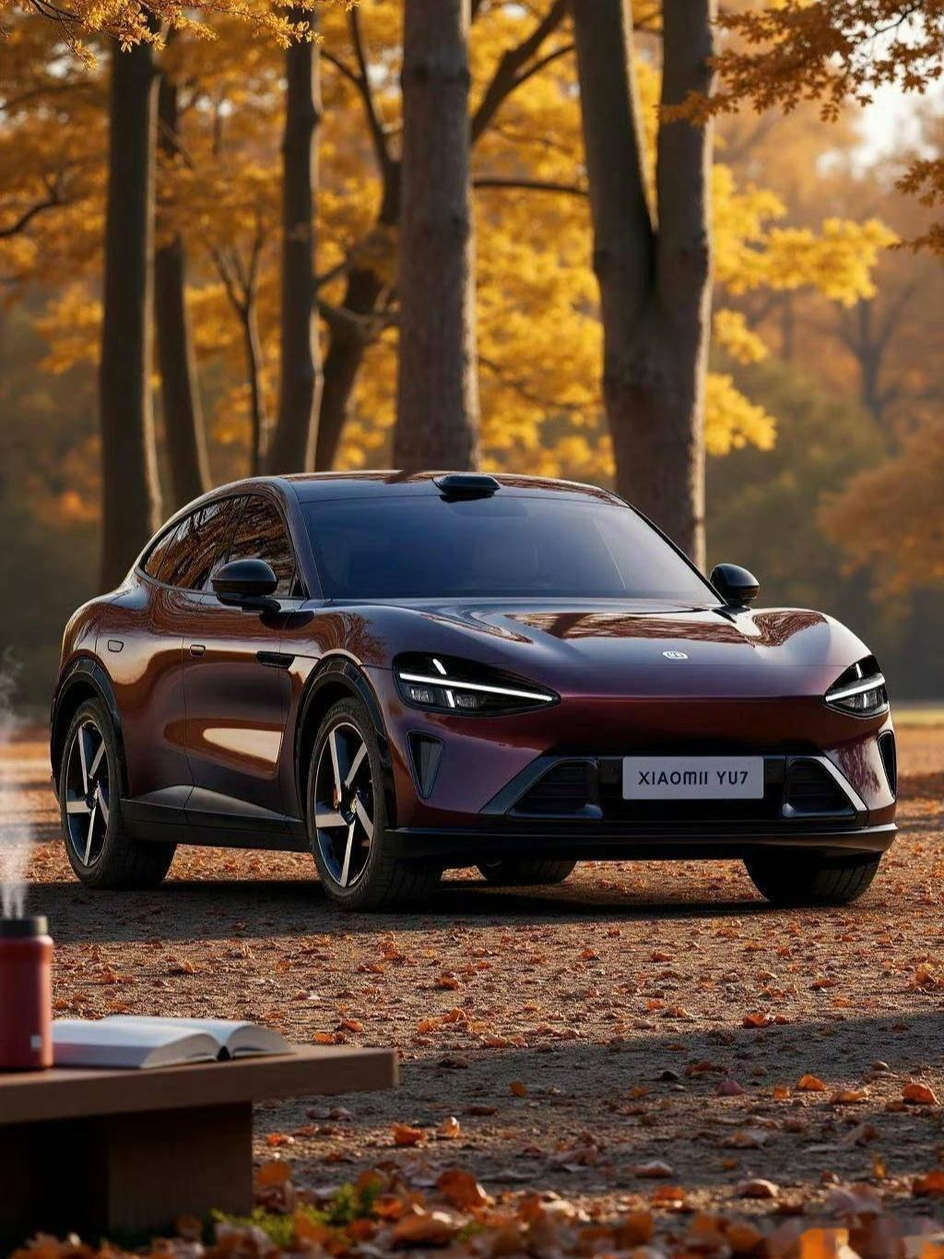other: (48, 450, 899, 929)
